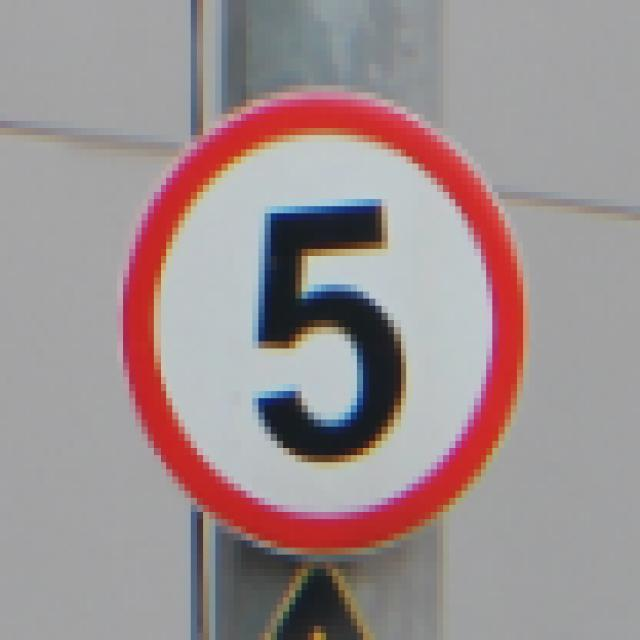Speed: (111, 85, 533, 583)
